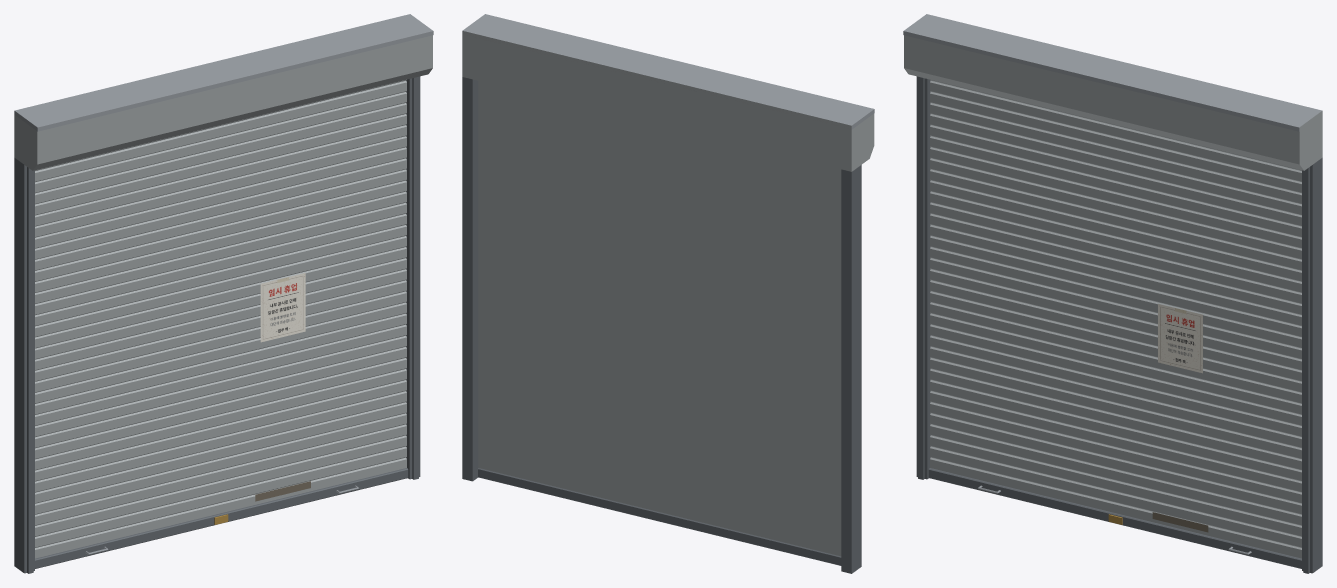
File: SC_Bld_Store_Shutter_3m.gltf
The picture shows the model from 3 angles, left to right: view 1: azimuth 30°, elevation 25°; view 2: azimuth 150°, elevation 25°; view 3: azimuth 330°, elevation 25°; orthographic projection.
Parts seen in each view (by area): view 1: SC_Bld_Store_Shutter_3m; view 2: SC_Bld_Store_Shutter_3m; view 3: SC_Bld_Store_Shutter_3m.
Boxes of the visible parts, <box> form: SC_Bld_Store_Shutter_3m: <box>14,14,433,573</box>; SC_Bld_Store_Shutter_3m: <box>462,14,874,573</box>; SC_Bld_Store_Shutter_3m: <box>903,14,1322,573</box>.
Size of the model in its own units: 3 by 3.3 by 0.305.
Materials: 2 (2 with a texture image).
